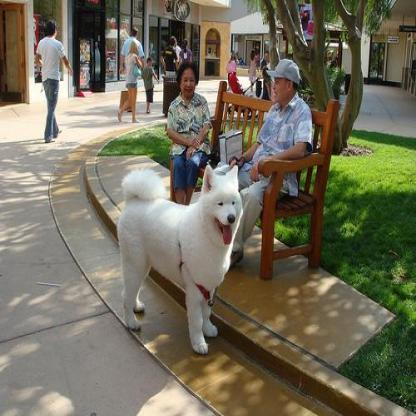Samoyed: (115, 162, 242, 354)
